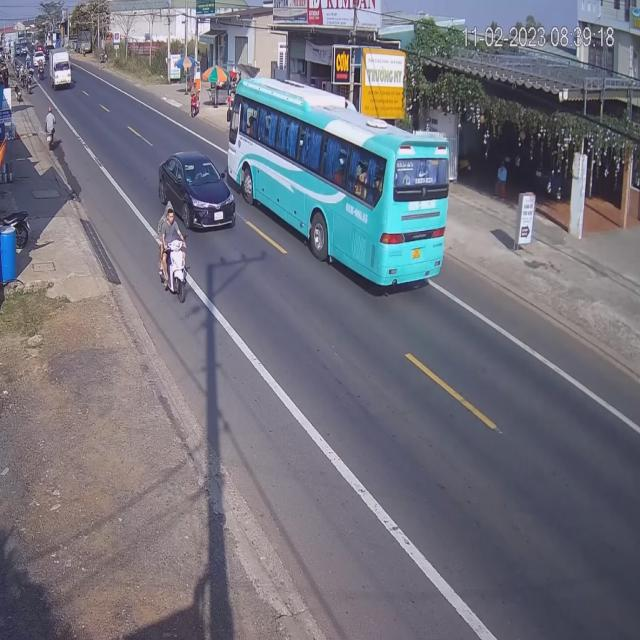bus: (232, 73, 459, 293)
car: (159, 155, 236, 235)
motorbike: (157, 203, 188, 302), (44, 108, 56, 148), (189, 91, 199, 119)
truck: (52, 51, 74, 91)
